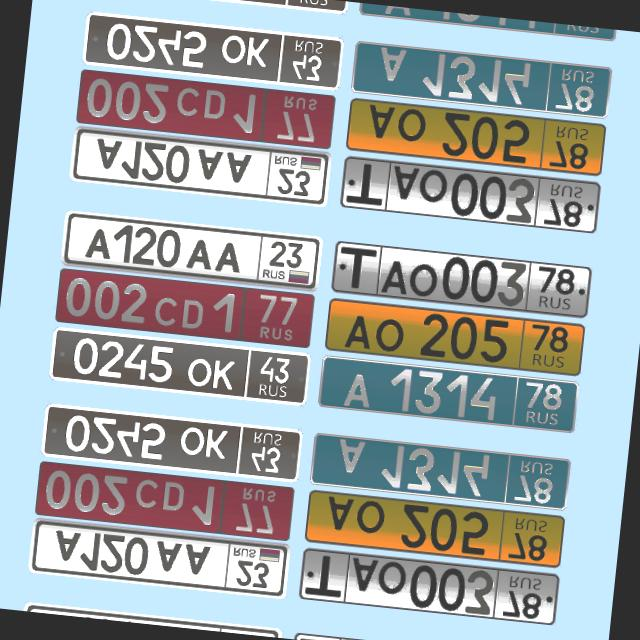citizen: (55, 205, 322, 291), (63, 123, 330, 209), (22, 516, 288, 602), (328, 237, 594, 321), (337, 151, 603, 235), (296, 544, 562, 628), (18, 598, 280, 638)
diplomatic: (50, 263, 317, 350), (71, 65, 338, 152), (30, 457, 297, 544)
military: (47, 325, 312, 406), (80, 9, 345, 90), (39, 402, 304, 482), (87, 0, 348, 13)
police: (314, 352, 580, 436), (306, 428, 572, 512), (348, 36, 612, 120), (356, 2, 616, 42)
taxi: (322, 294, 588, 380), (302, 484, 568, 570), (344, 92, 609, 177)
